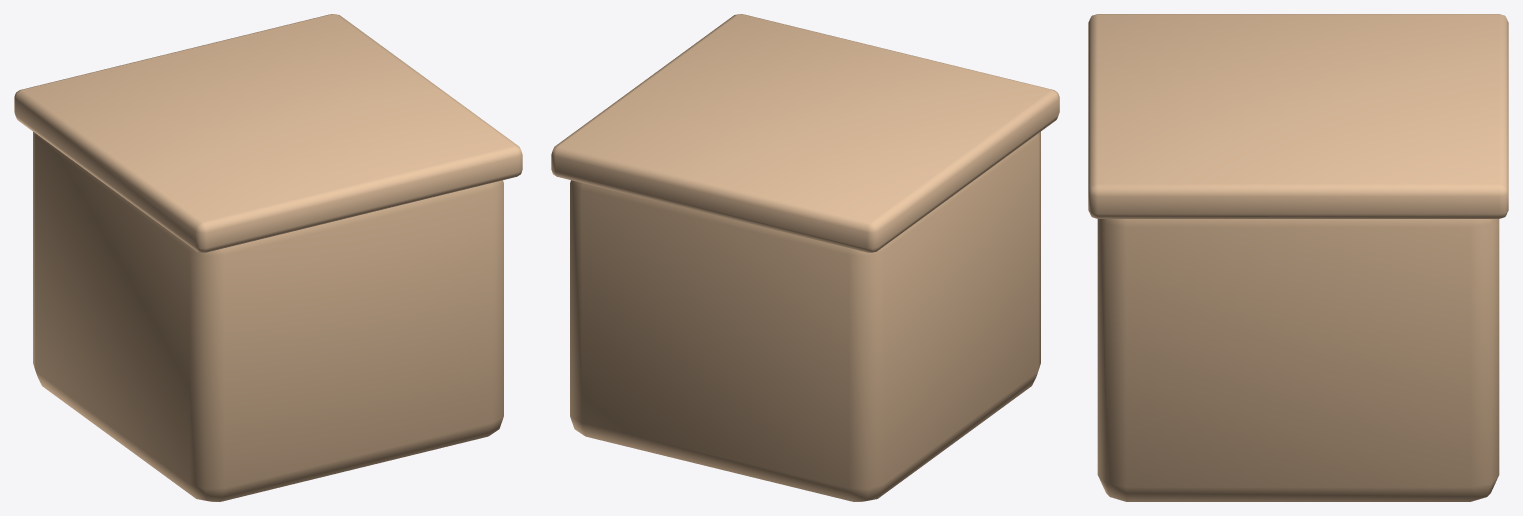
The model's file is cozy_crate_small_A.glb.
3 views of the same model, side by side, from view 1: azimuth 30°, elevation 25°; view 2: azimuth 150°, elevation 25°; view 3: azimuth 270°, elevation 25° (orthographic). The views are drawn at different scales.
Parts seen in each view (by area): view 1: Box, Lip; view 2: Box, Lip; view 3: Box, Lip.
Part boxes in pixels (left/top/right/bottom): Box: left=33, top=132, right=503, bottom=501; Lip: left=14, top=14, right=522, bottom=252; Box: left=570, top=132, right=1040, bottom=501; Lip: left=551, top=14, right=1059, bottom=252; Box: left=1097, top=219, right=1499, bottom=501; Lip: left=1088, top=14, right=1508, bottom=218.
Bounding box in the file's own units: 0.44 × 0.38 × 0.44.
